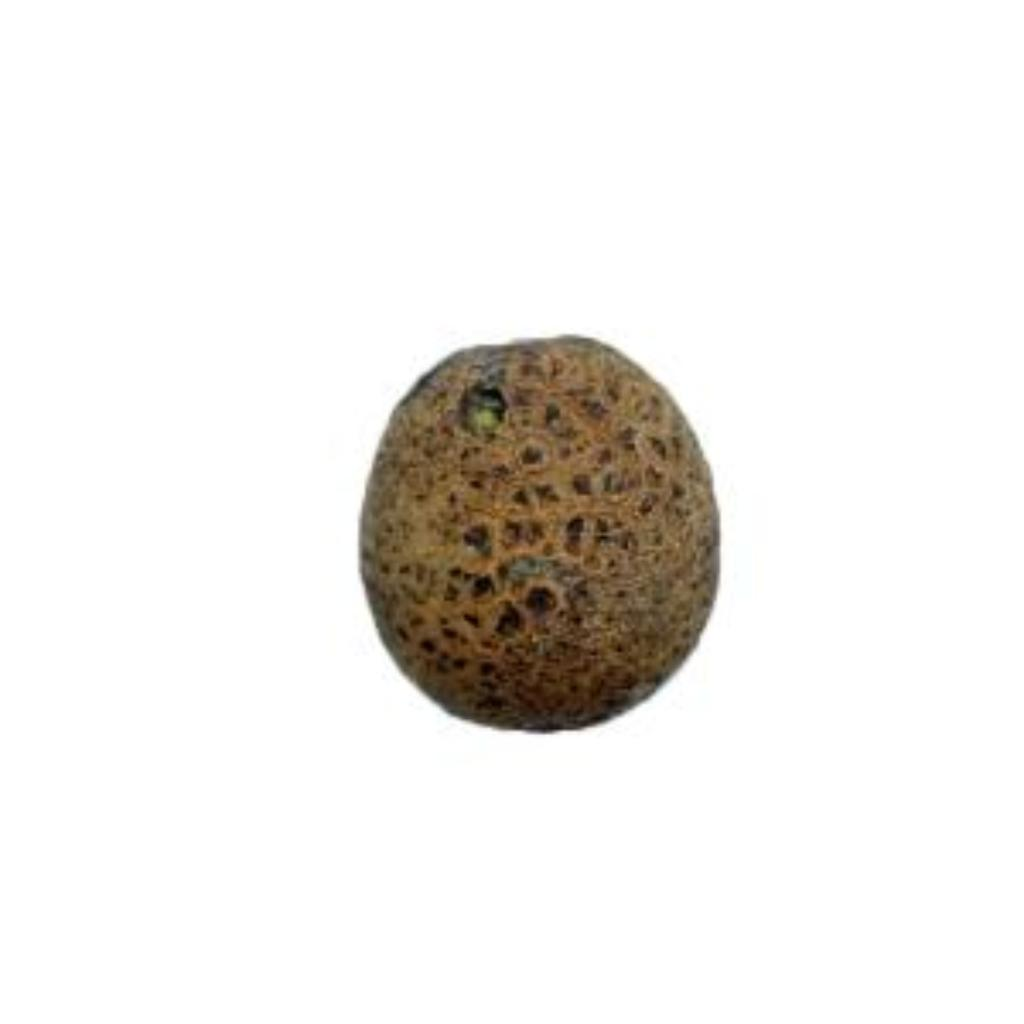cercospora_spot: (350, 314, 738, 748)
